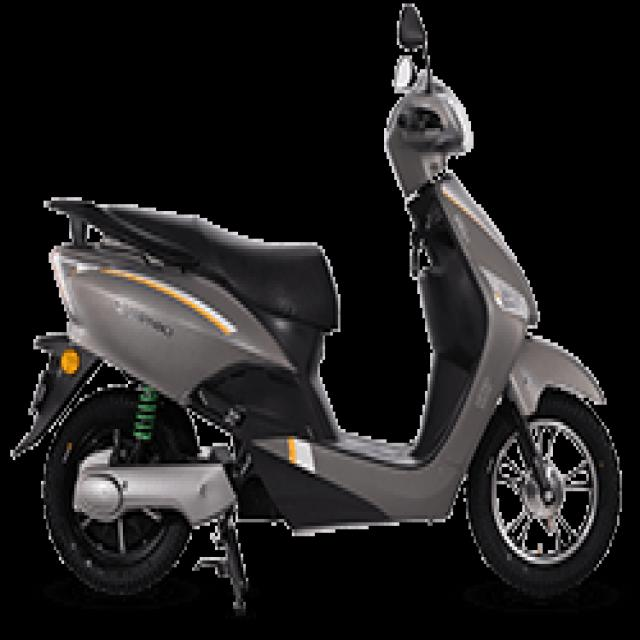Bike: (12, 3, 622, 599)
